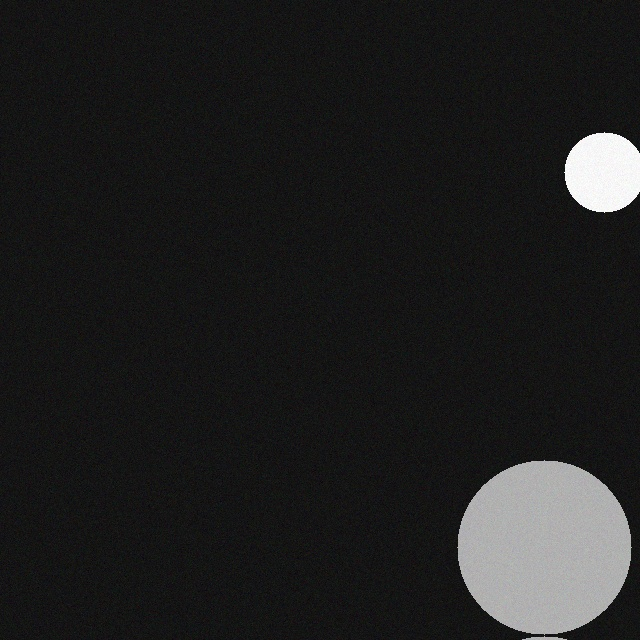circle: (445, 464, 619, 638), (552, 136, 632, 216)
